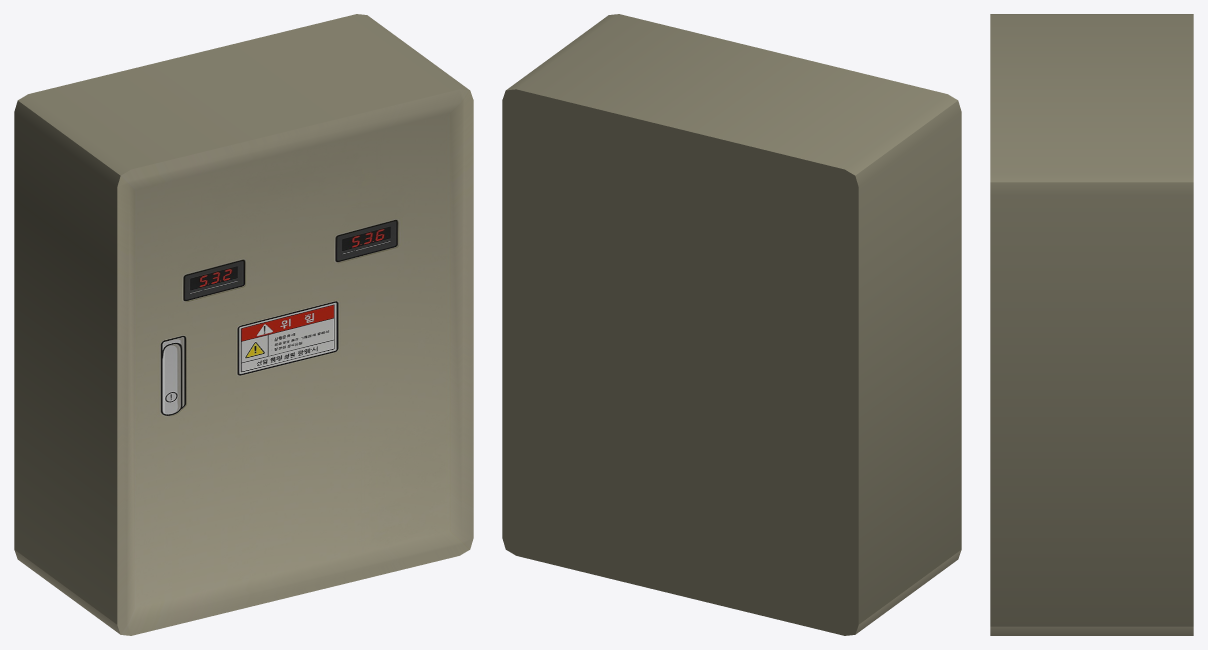
3 renders of one model, left to right at view 1: azimuth 30°, elevation 25°; view 2: azimuth 150°, elevation 25°; view 3: azimuth 270°, elevation 25°, orthographic.
Parts seen in each view (by area): view 1: PLC본체(전원환경감시)039; view 2: PLC본체(전원환경감시)039; view 3: PLC본체(전원환경감시)039.
Part boxes in pixels (x1=…): PLC본체(전원환경감시)039: x1=14, y1=14, x2=473, y2=635; PLC본체(전원환경감시)039: x1=502, y1=14, x2=961, y2=635; PLC본체(전원환경감시)039: x1=990, y1=14, x2=1193, y2=635.
Bounding box in the file's own units: 0.4 × 0.5 × 0.2.
Materials: 2 (1 with a texture image).
